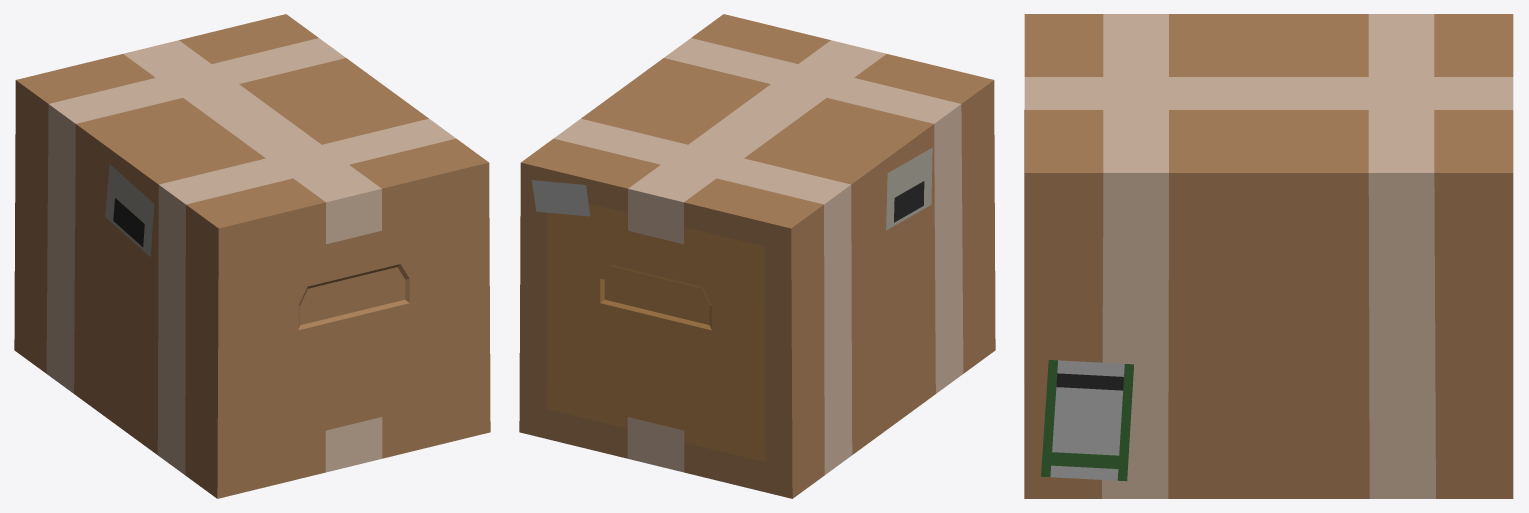
Rendered from SM_carton_box_2.gltf.
The picture shows the model from 3 angles, left to right: view 1: azimuth 30°, elevation 25°; view 2: azimuth 150°, elevation 25°; view 3: azimuth 270°, elevation 25°; orthographic projection. The views are drawn at different scales.
Visible parts, largest first — view 1: SM_carton_box_2; view 2: SM_carton_box_2; view 3: SM_carton_box_2.
Boxes of the visible parts, box(x1,y1,x2,y2) form: SM_carton_box_2: box(14, 14, 490, 498); SM_carton_box_2: box(519, 14, 995, 498); SM_carton_box_2: box(1024, 14, 1513, 498).
Size of the model in its own units: 0.4221 by 0.3931 by 0.5367.
1 material, 1 textured.
